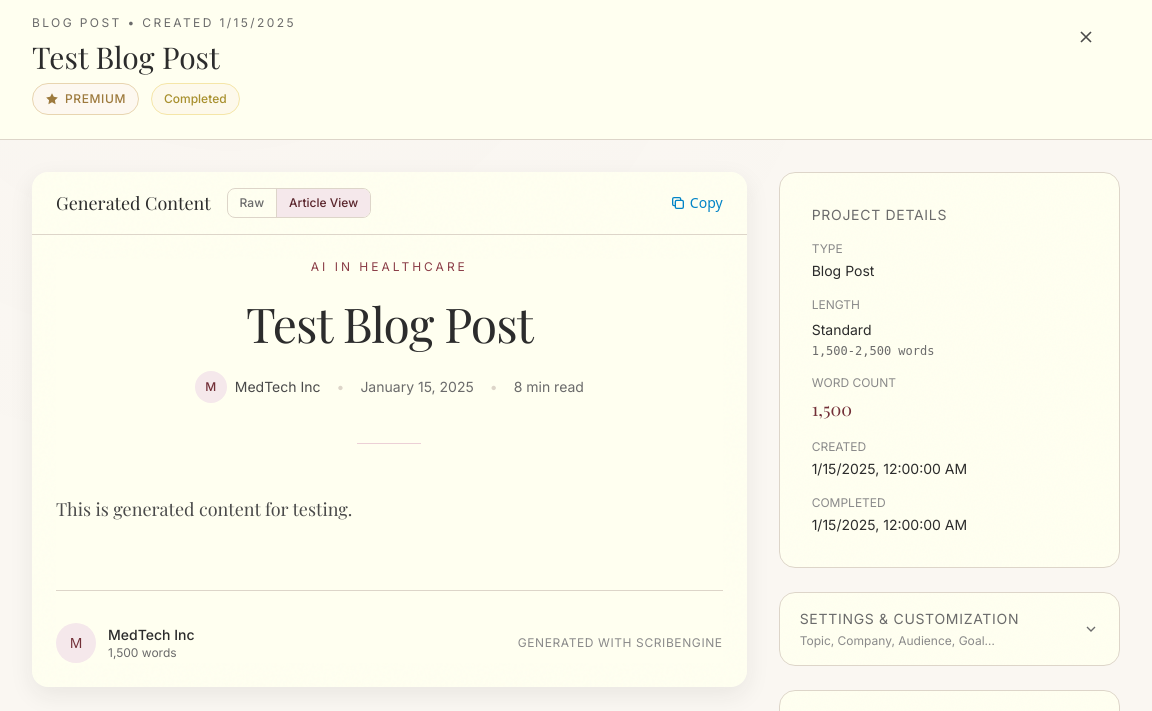
Test: Project Settings Panel › Input Fields › displays all non-empty form fields as editable inputs
Click the heading "Settings & Customization".
click(909, 619)  # box 800,609 -> 1019,629
(page scrolled)
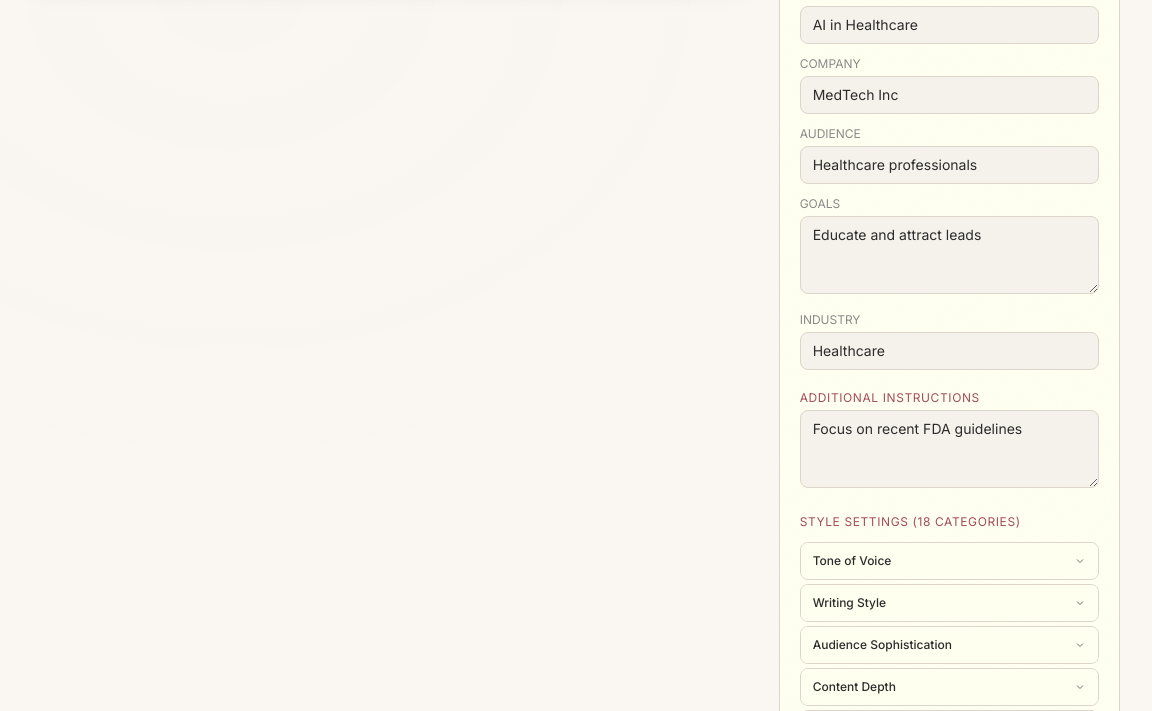
Expected: the field showing "AI in Healthcare" below "Topic" is shown, 800,6 -> 1099,44
Expected: the field showing "MedTech Inc" below "Company" is shown, 800,76 -> 1099,114
Expected: the 3rd field showing "Healthcare professionals" is shown, 800,146 -> 1099,184
